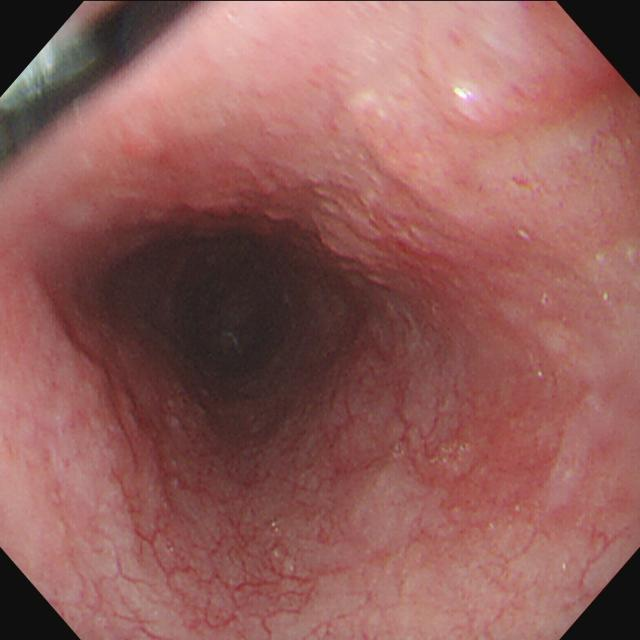A: (287, 164, 458, 299)
E: (155, 231, 315, 415)
